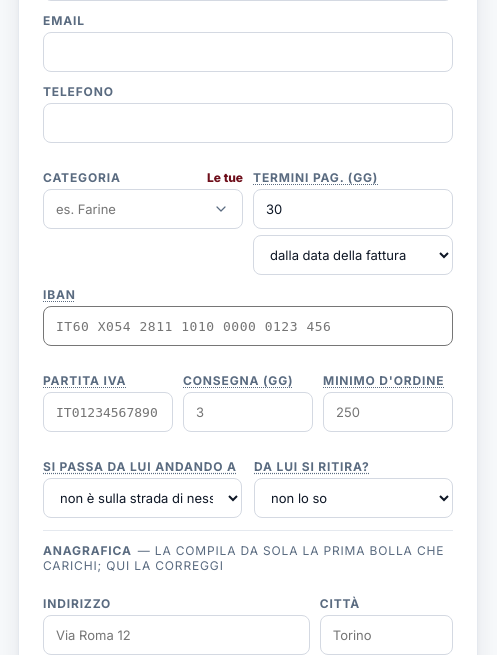
anagrafica fornitori: quello che finisce nel database › un IBAN che non torna viene segnalato prima di salvarlo
(page scrolled)
In the field with placeholder "IT60 X054 2811 1010 0000 0123 456": (248, 326) 43,306 -> 453,346, type "IT00 0000 0000 0000 0000 0000 000"
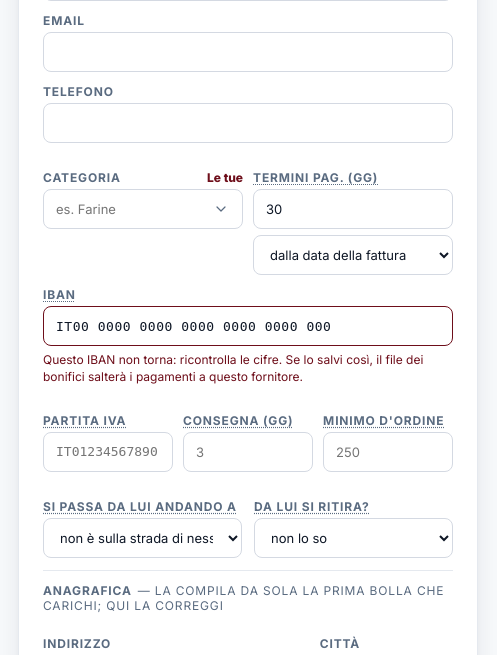
Expected: the text "Questo IBAN non torna" is shown, 43,352 -> 423,384
